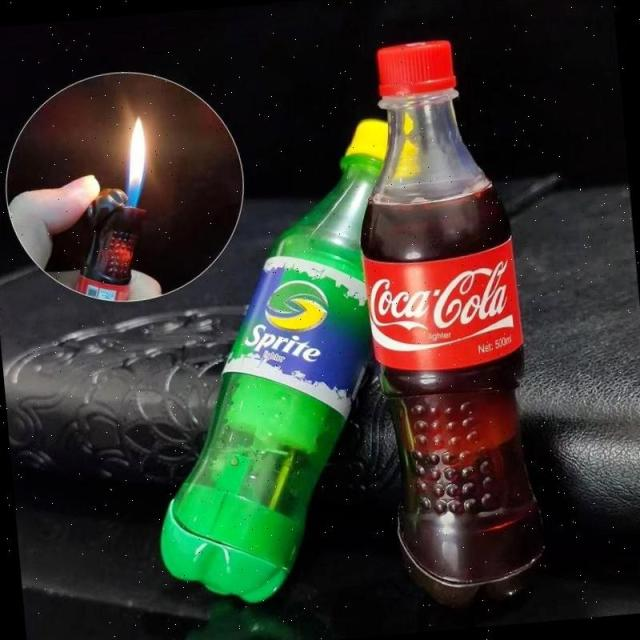coca-cola: (333, 30, 561, 603)
